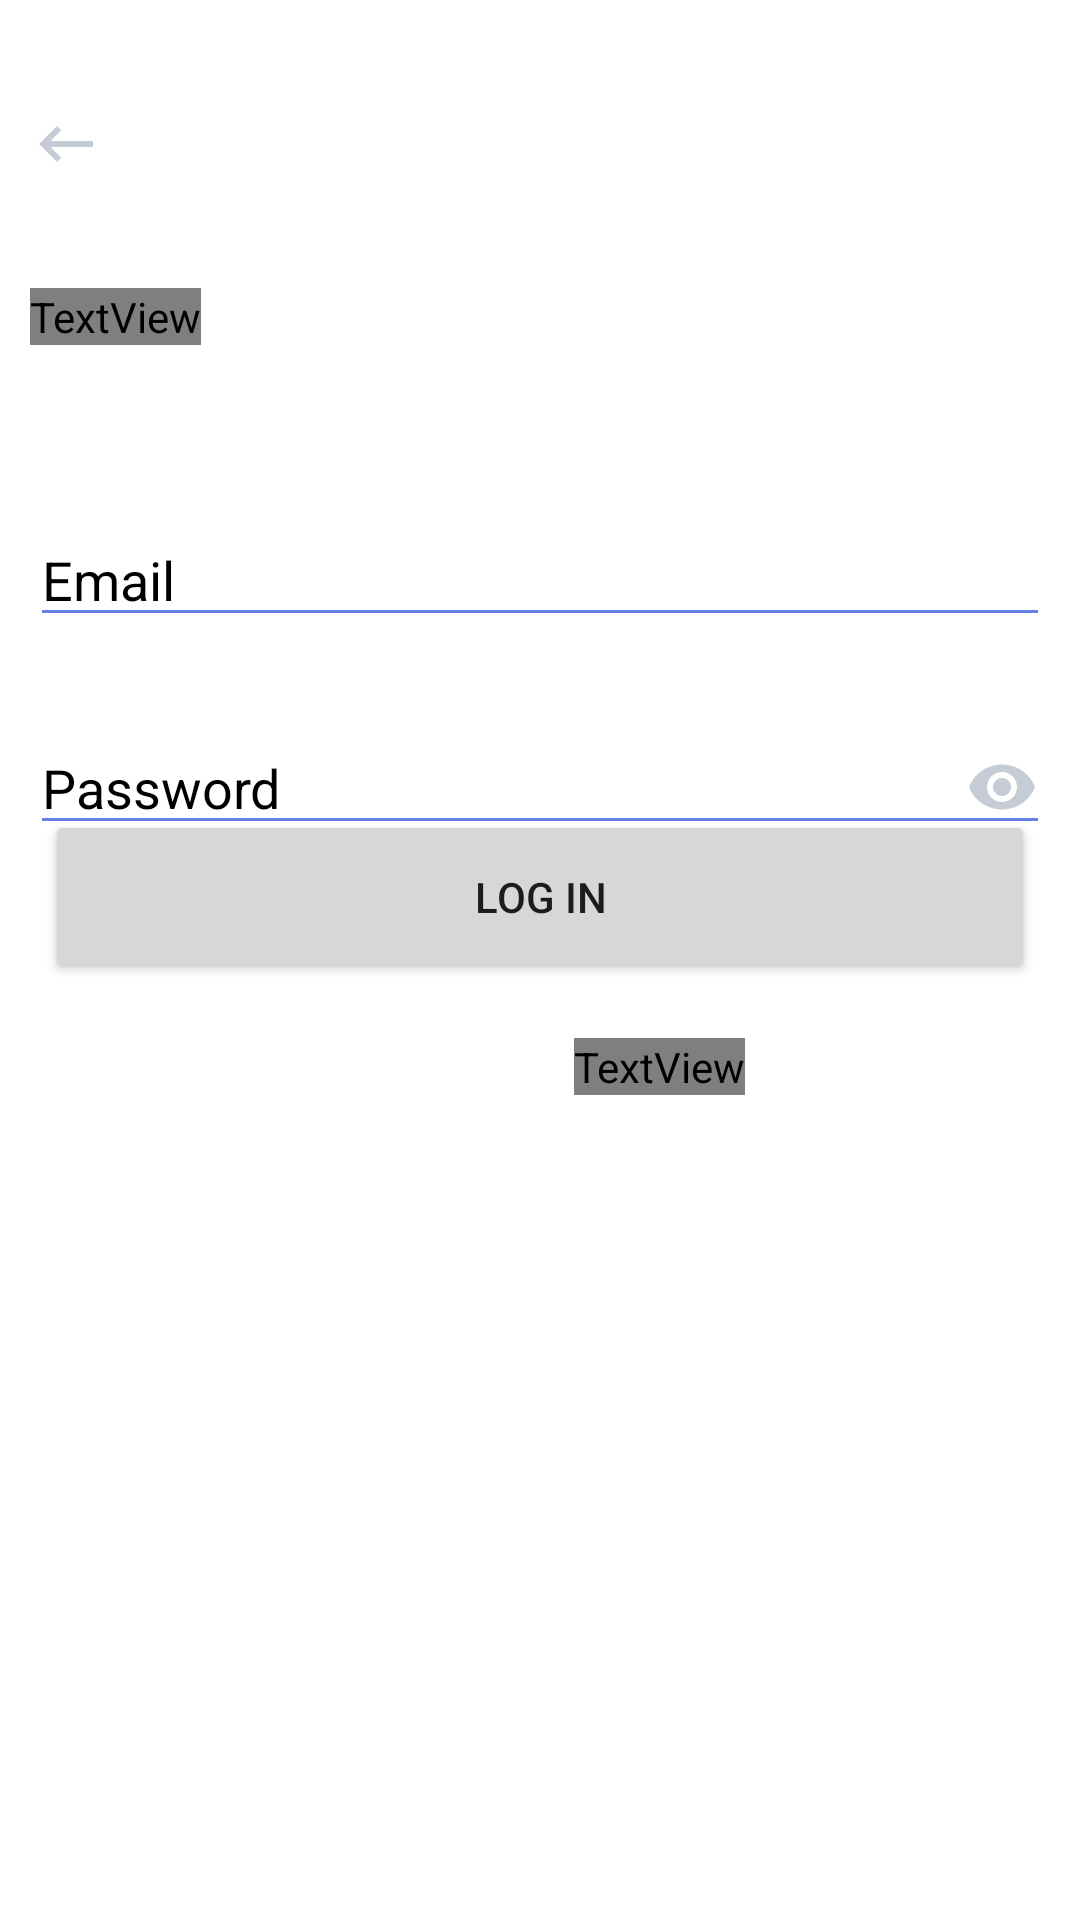

Icons on this 1080x1920 Android screen, each with the point to tap as (x,y):
keyboard backspace: (66,144)
